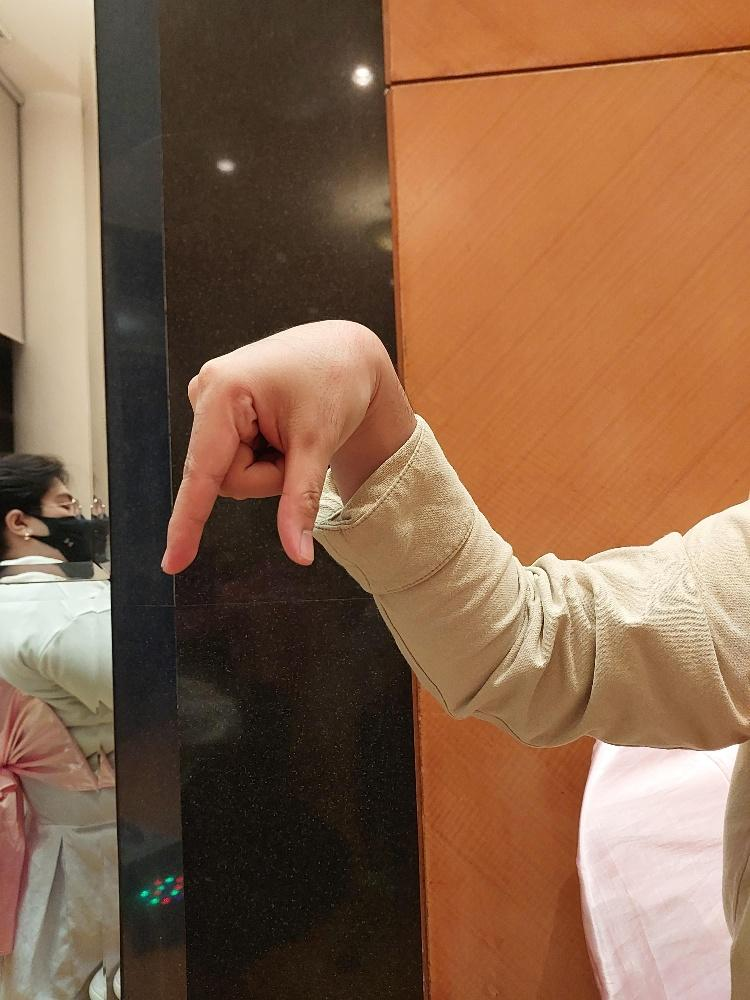q: (156, 311, 371, 578)
